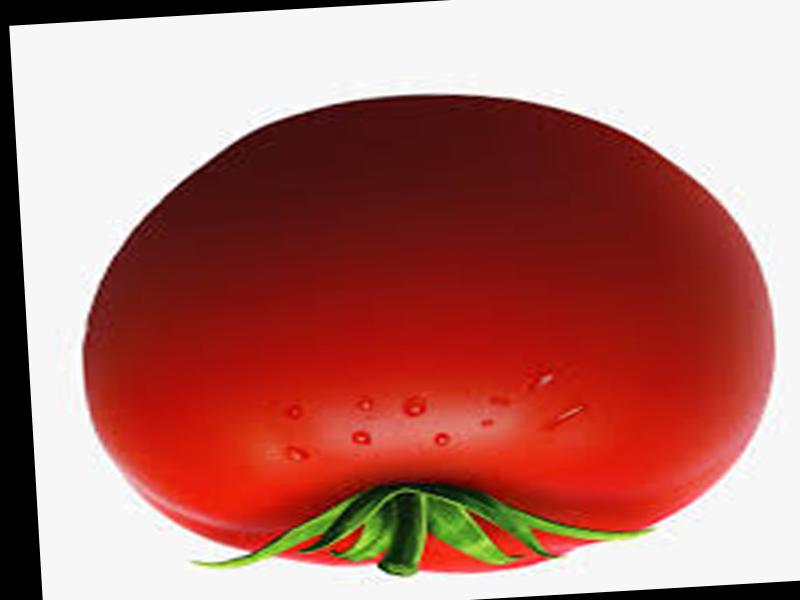Tomato: (69, 78, 704, 594)
